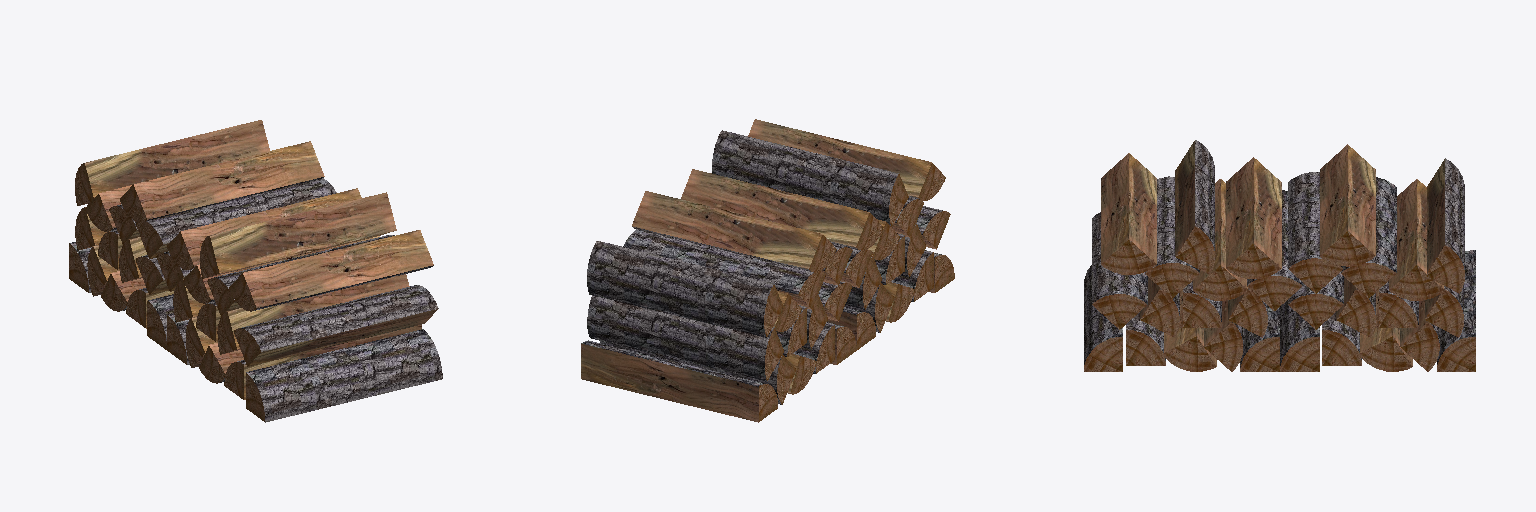
The picture shows the model from 3 angles: view 1: azimuth 30°, elevation 25°; view 2: azimuth 150°, elevation 25°; view 3: azimuth 270°, elevation 25°; orthographic projection.
Visible parts, largest first — view 1: Object__2.jpg, Object_Vegetation_Bark_Maple2.jpg, Object__1.jpg; view 2: Object_Vegetation_Bark_Maple2.jpg, Object__2.jpg, Object__1.jpg; view 3: Object__1.jpg, Object__2.jpg, Object_Vegetation_Bark_Maple2.jpg.
Boxes of the visible parts, box(x1,y1,x2,y2) form: Object__2.jpg: box(80, 120, 437, 399); Object_Vegetation_Bark_Maple2.jpg: box(70, 177, 442, 422); Object__1.jpg: box(69, 163, 264, 421); Object_Vegetation_Bark_Maple2.jpg: box(581, 130, 942, 404); Object__2.jpg: box(581, 119, 936, 422); Object__1.jpg: box(759, 163, 954, 421); Object__1.jpg: box(1084, 226, 1475, 371); Object__2.jpg: box(1101, 141, 1444, 366); Object_Vegetation_Bark_Maple2.jpg: box(1084, 140, 1475, 367).
Size of the model in its own units: 1.31 by 1.03 by 2.5.
Materials: 4 (3 with a texture image).